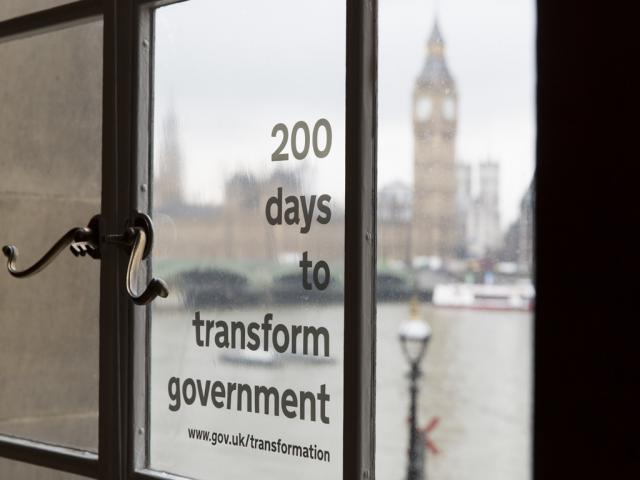Door-handle: (1, 212, 102, 278), (104, 212, 168, 306)
